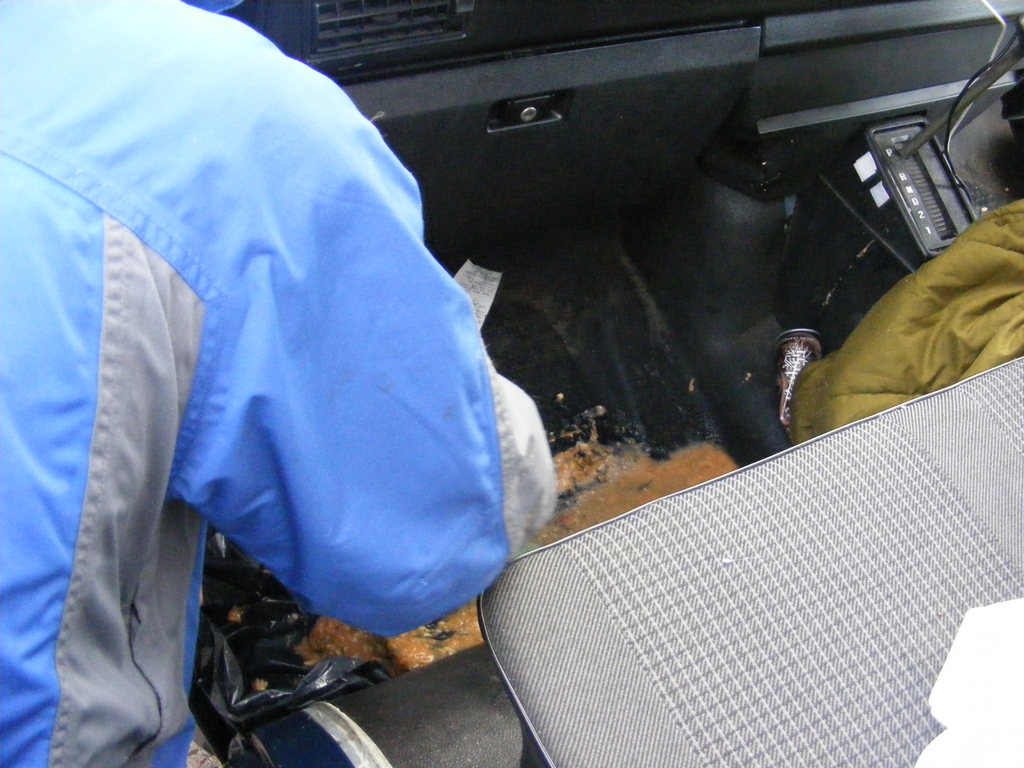Person: (0, 0, 559, 768)
